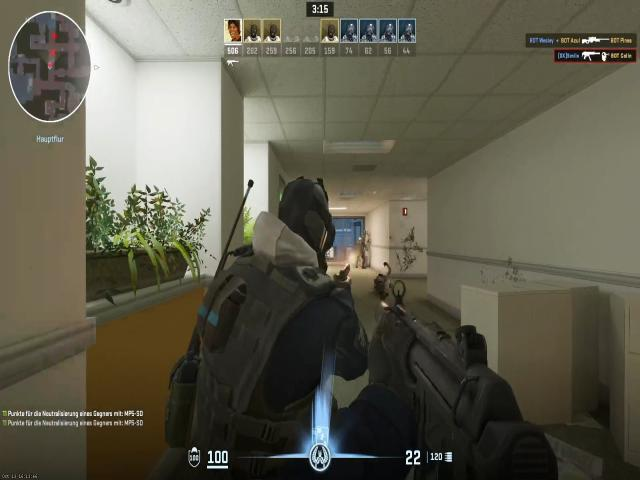CT: (173, 249, 365, 412), (353, 234, 368, 266)
CT-Head: (255, 173, 338, 266)
Dead: (369, 260, 398, 297)
